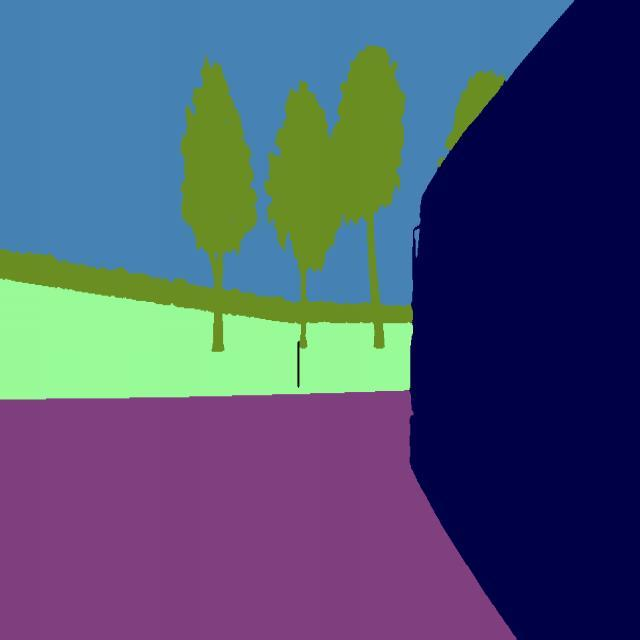unsafe: (407, 0, 640, 640)
